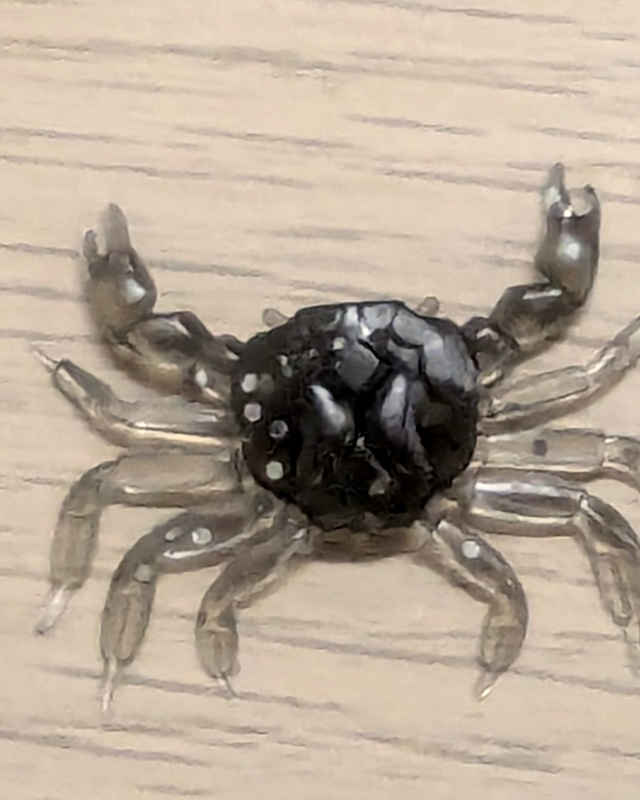crab1: (32, 161, 640, 718)
